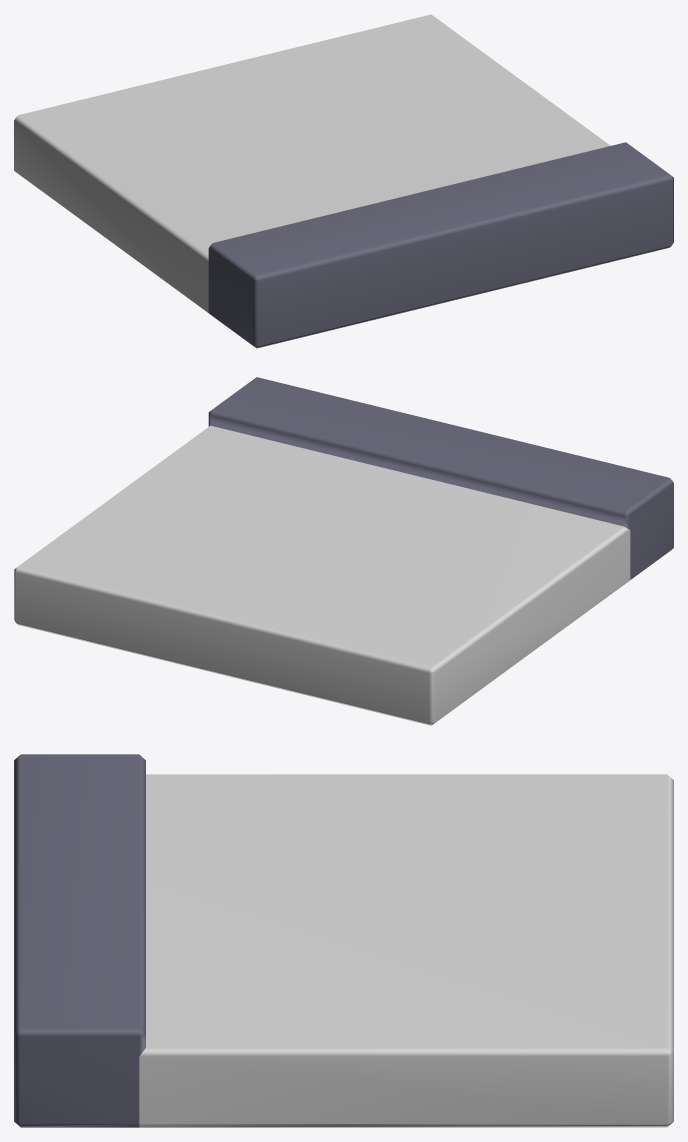
File: mod_sc_tdm_roma_ground_002.fbx
3 views of the same model, one above another, from view 1: azimuth 30°, elevation 25°; view 2: azimuth 150°, elevation 25°; view 3: azimuth 270°, elevation 25° (orthographic). The views are drawn at different scales.
Parts seen in each view (by area): view 1: mod_sc_roma_001_floor_012; view 2: mod_sc_roma_001_floor_012; view 3: mod_sc_roma_001_floor_012.
Part boxes in pixels (box(x1,y1,x2,y2)): mod_sc_roma_001_floor_012: box(14, 14, 673, 348); mod_sc_roma_001_floor_012: box(14, 377, 673, 725); mod_sc_roma_001_floor_012: box(14, 754, 673, 1127).
Size of the model in its own units: 3 by 0.5 by 3.
1 material, 1 textured.
